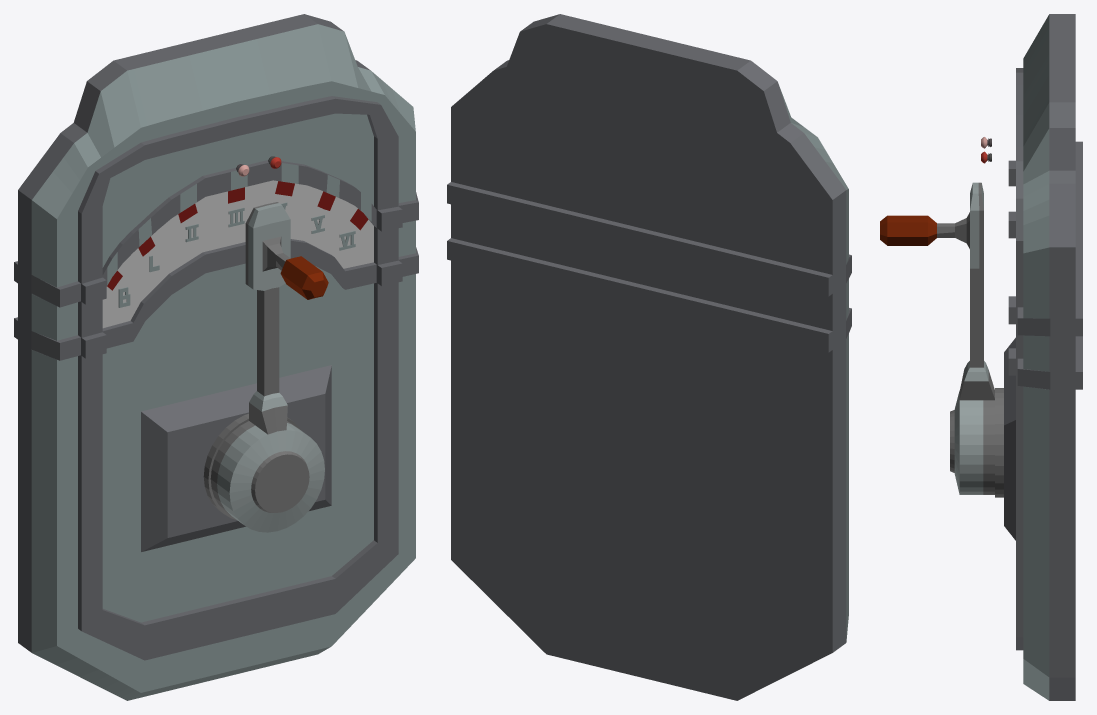
File: newLever4.fbx
3 views of the same model, side by side, from view 1: azimuth 30°, elevation 25°; view 2: azimuth 150°, elevation 25°; view 3: azimuth 270°, elevation 25° (orthographic). The views are drawn at different scales.
Parts seen in each view (by area): view 1: newMount, newLever; view 2: newMount; view 3: newMount, newLever.
Boxes of the visible parts, x1,y1,x2,y2 form: newMount: (14,14,418,700); newLever: (203,202,328,532); newMount: (447,14,851,700); newMount: (1004,14,1082,700); newLever: (880,182,1003,497).
Size of the model in its own units: 800 by 1263 by 388.
